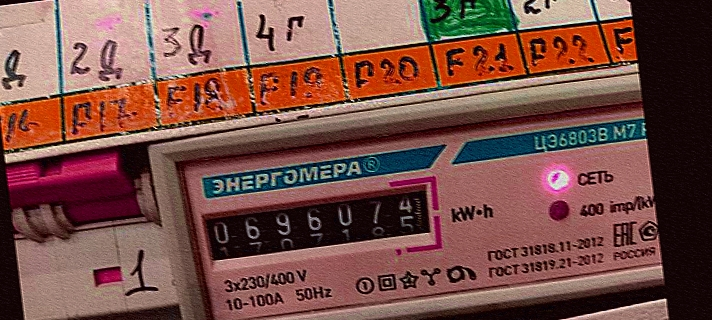0: (210, 218, 231, 245), (335, 200, 354, 227)
4: (396, 192, 413, 214)
5: (399, 213, 415, 234)
6: (241, 213, 262, 240), (304, 203, 323, 232)
7: (366, 197, 385, 225)
9: (273, 209, 293, 237)
screen: (194, 172, 447, 278)
